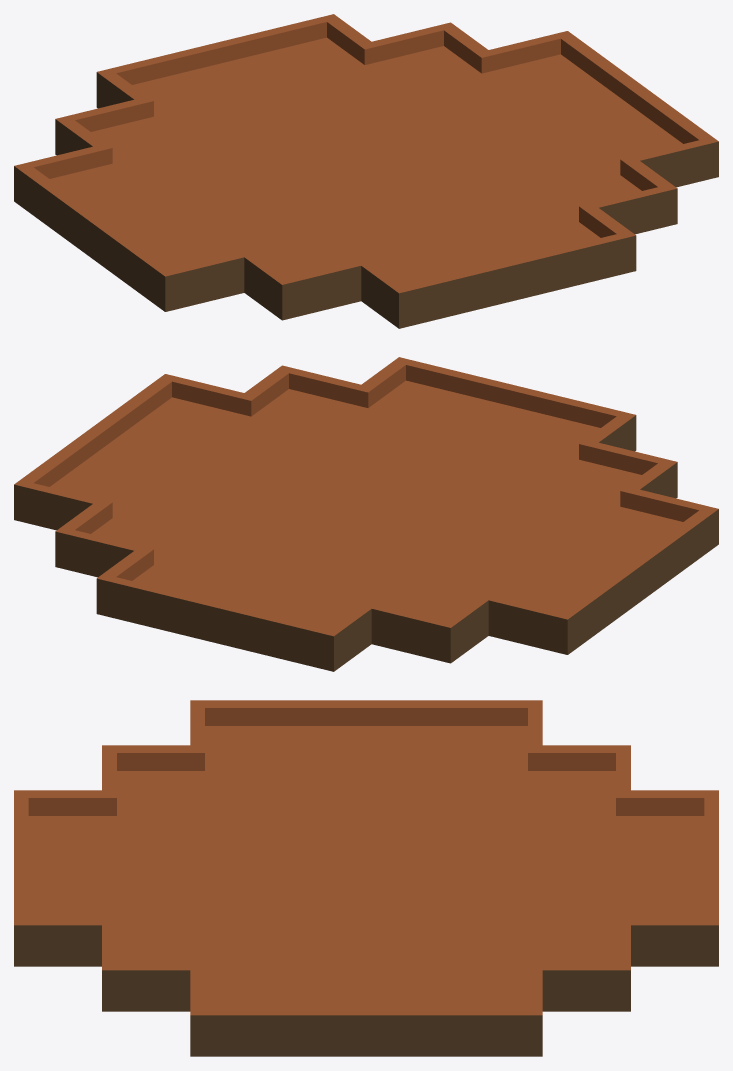
The model's file is LilypadOrange.fbx.
The picture shows the model from 3 angles, top to bottom: view 1: azimuth 30°, elevation 25°; view 2: azimuth 150°, elevation 25°; view 3: azimuth 270°, elevation 25°; orthographic projection. The views are drawn at different scales.
Parts seen in each view (by area): view 1: LilyPadFullO; view 2: LilyPadFullO; view 3: LilyPadFullO.
Part boxes in pixels (x1,y1,x2,y2): LilyPadFullO: (14,14,718,328); LilyPadFullO: (14,357,718,671); LilyPadFullO: (14,700,718,1056).
Bounding box in the file's own units: 280 × 17.17 × 265.
